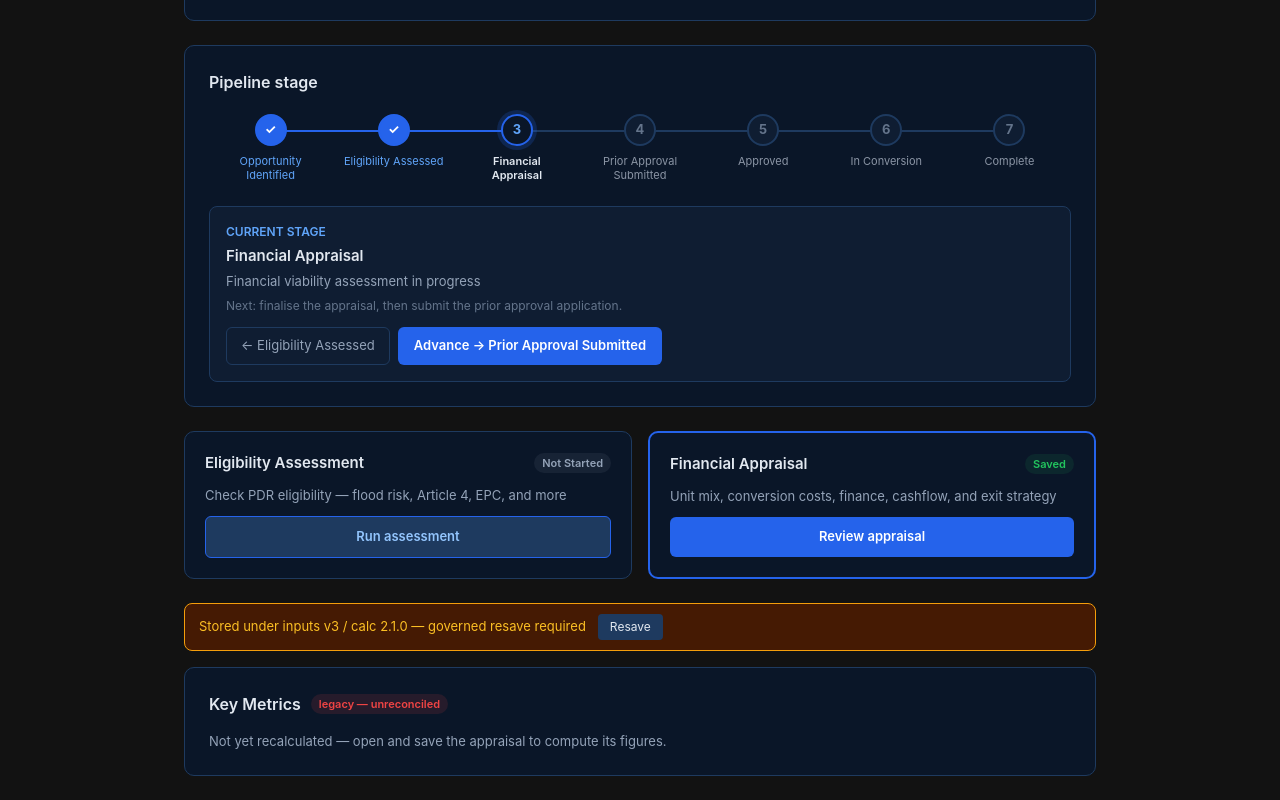
ProjectDetail stale-version badge (R17 design §11) › signed in: a refused resave prints the server detail and keeps the badge
(page scrolled)
Click the button "Resave": (630, 627) [598,614,663,640]
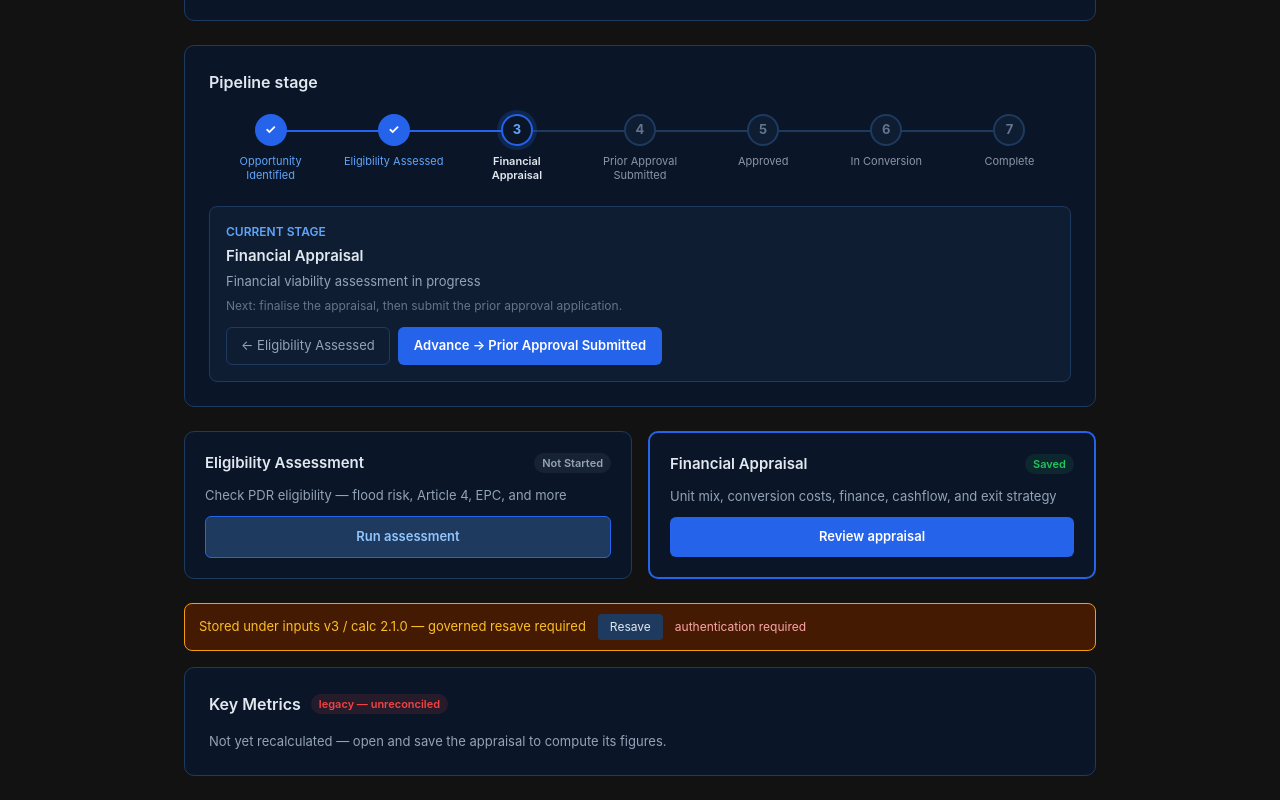
Check: the text "authentication required" is shown, box [675,618,806,636]
